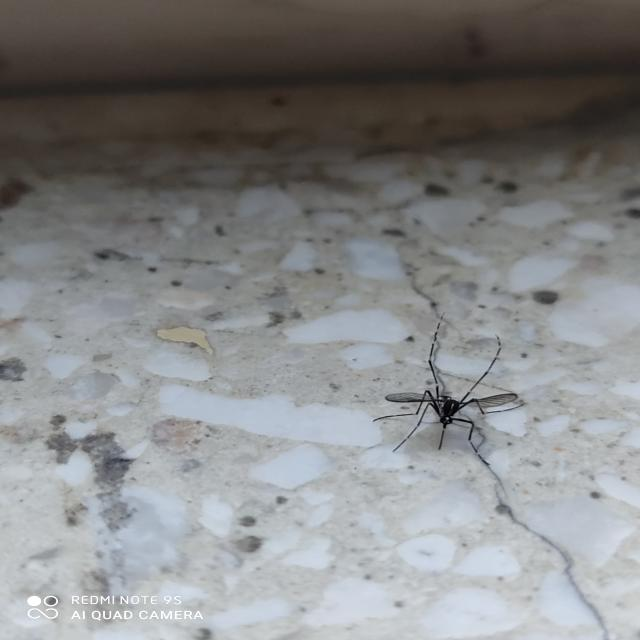albopictus: (368, 308, 541, 497)
